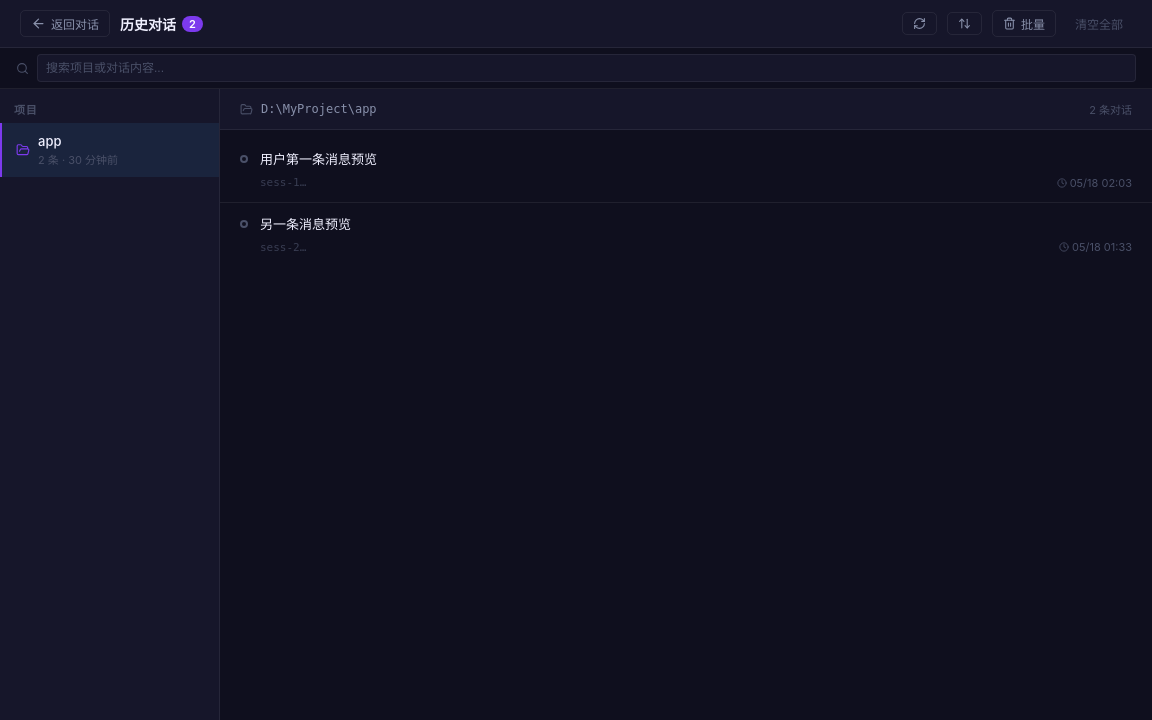
Test: HistoryPanel - 有历史记录 › 搜索框输入关键词可过滤
Type "不存在的关键词" into the field with placeholder "搜索项目或对话内容...". click: (586, 68)
box: [37,54,1136,82]
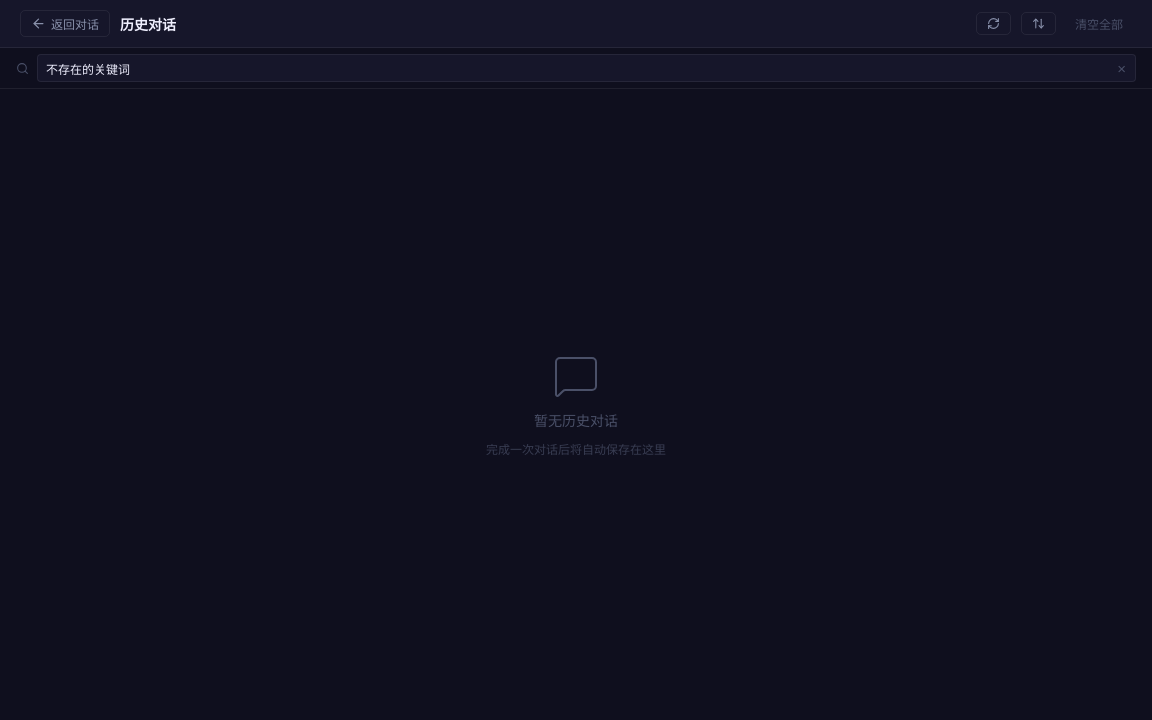
Now the text "暂无历史对话" is shown, box [534,410,618,430]
